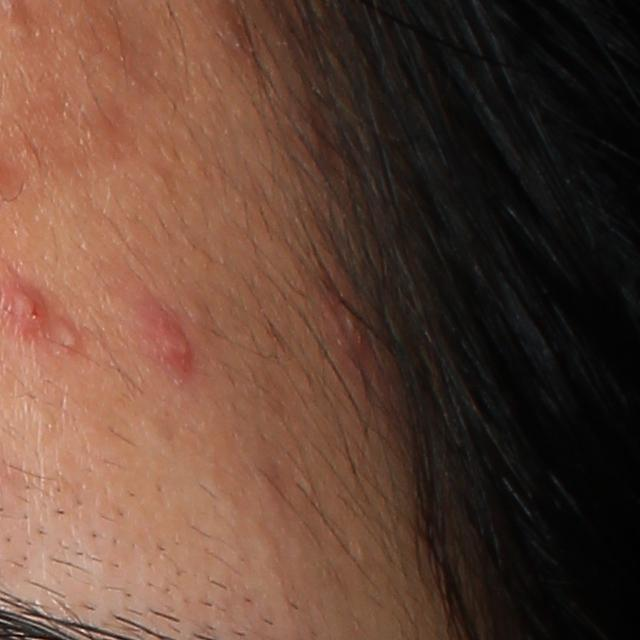papule: (142, 306, 196, 369)
pustule: (55, 322, 80, 353)
